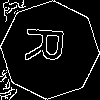R: (25, 25, 73, 65)
